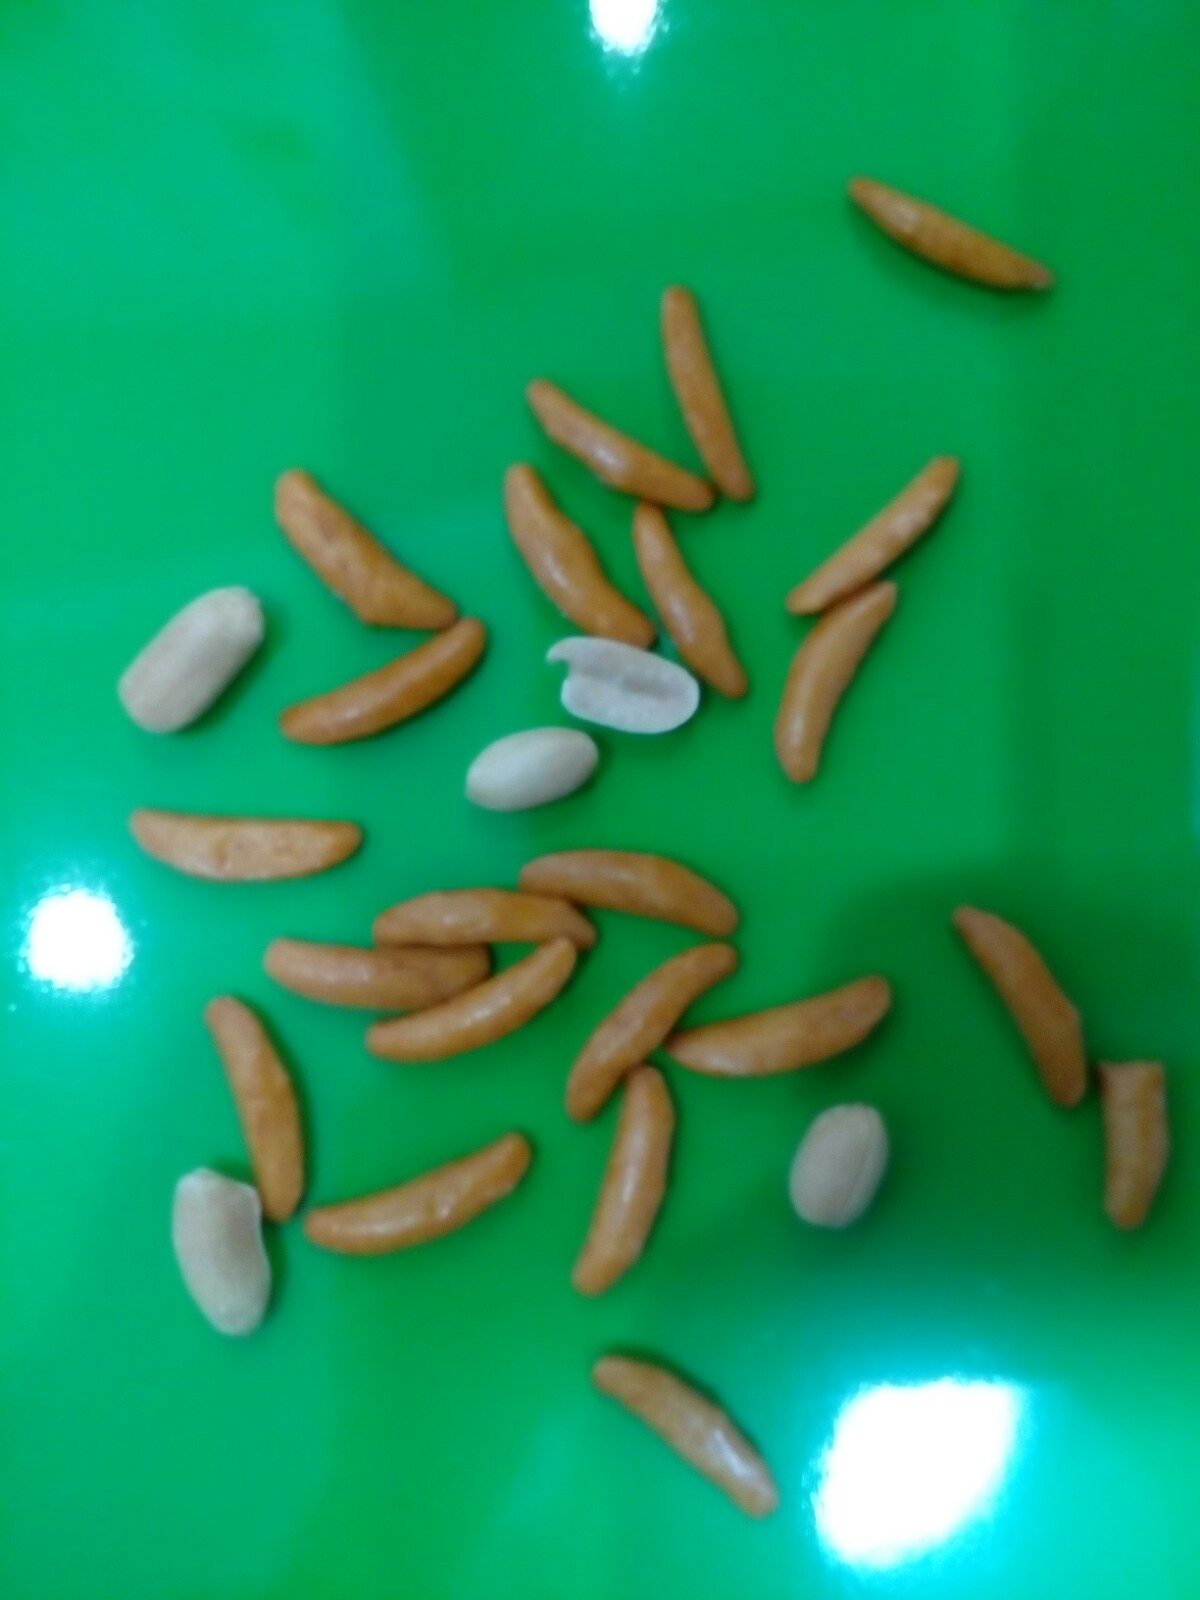peanut: (101, 574, 271, 736), (158, 1157, 279, 1353), (539, 629, 711, 742), (773, 1095, 899, 1240), (456, 723, 605, 823)
